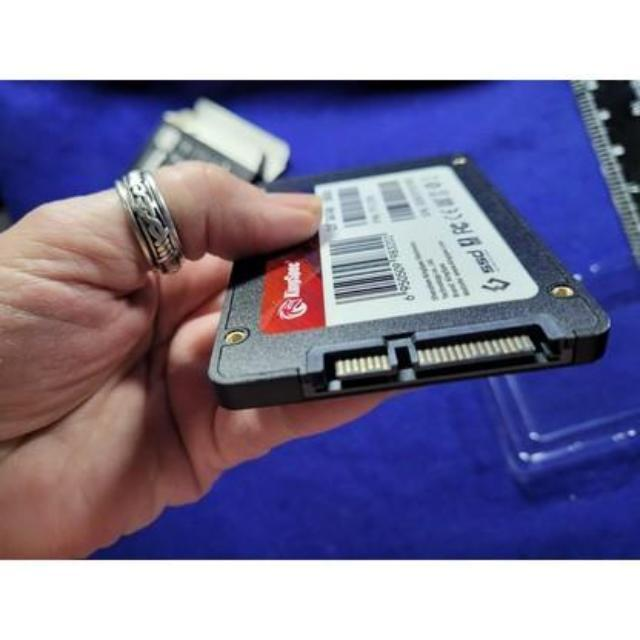DISK: (194, 139, 612, 430)
